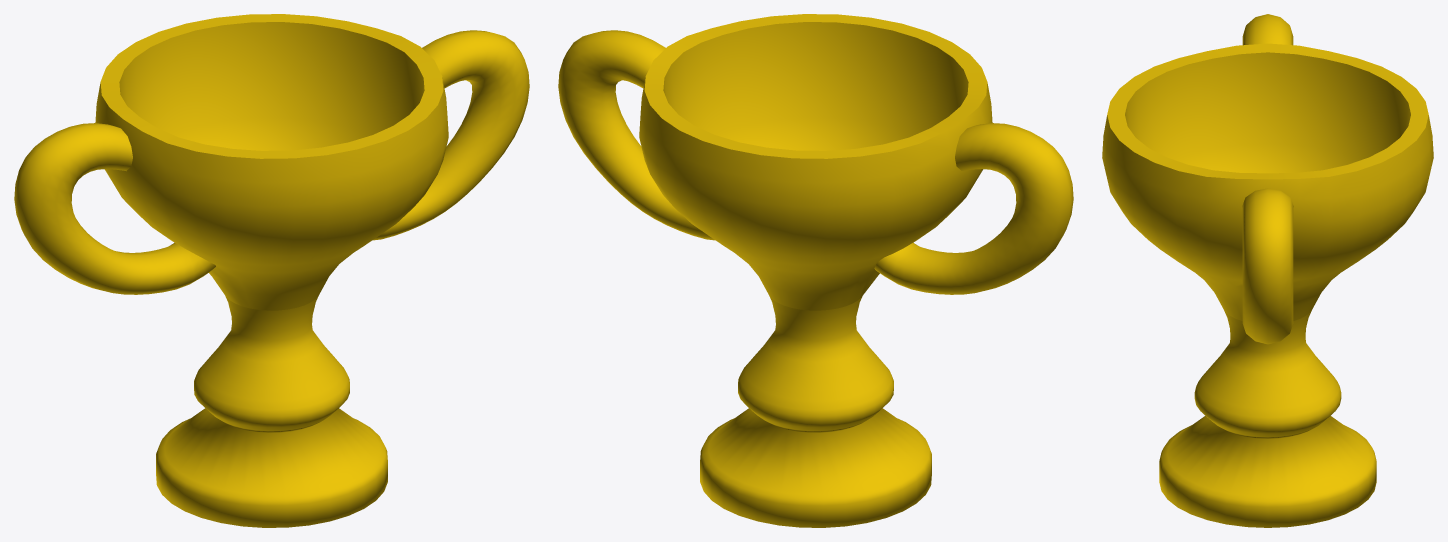
Rendered from Trophy.fbx.
3 renders of one model, left to right at view 1: azimuth 30°, elevation 25°; view 2: azimuth 150°, elevation 25°; view 3: azimuth 270°, elevation 25°, orthographic. The views are drawn at different scales.
Visible parts, largest first — view 1: Trophy; view 2: Trophy; view 3: Trophy.
Part boxes in pixels (x1,y1,x2,y2): Trophy: (14,14,529,527); Trophy: (558,14,1073,527); Trophy: (1102,14,1433,527).
Bounding box in the file's own units: 1.82 × 1.1 × 1.36.
